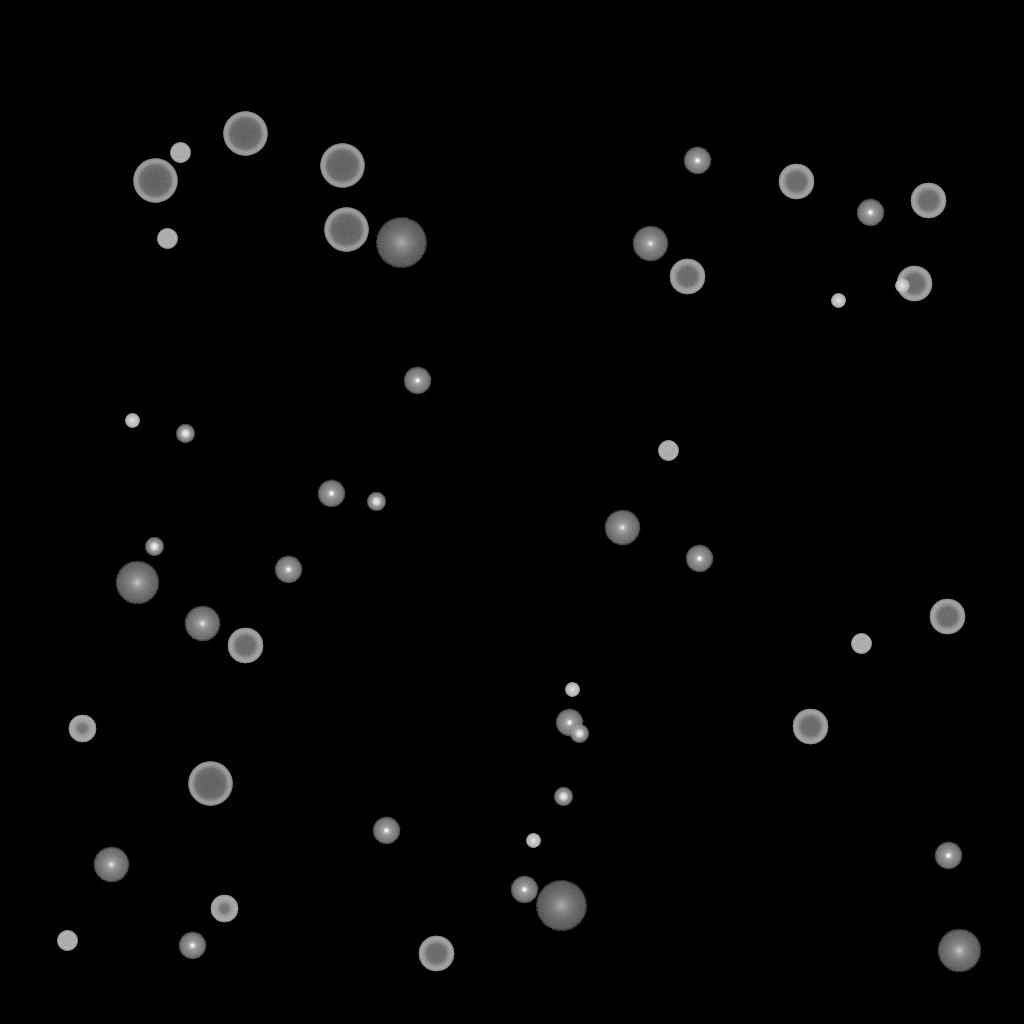depth:-10: (510, 876, 538, 904), (403, 367, 431, 395), (685, 545, 713, 573), (856, 199, 884, 227), (372, 817, 400, 845), (683, 147, 711, 175), (274, 556, 302, 584), (934, 842, 962, 870), (178, 932, 206, 960), (555, 709, 583, 737), (317, 480, 345, 508)
depth:-20: (367, 493, 385, 511), (570, 725, 588, 743), (145, 538, 163, 556), (554, 788, 572, 806), (176, 425, 194, 443)
depth:-30: (125, 414, 139, 428), (831, 294, 845, 308), (526, 834, 540, 848), (565, 683, 579, 697), (895, 279, 909, 293)
depth:-40: (57, 931, 77, 951), (658, 441, 678, 461), (170, 143, 190, 163), (851, 634, 871, 654), (157, 229, 177, 249)
depth:-50: (210, 895, 238, 923), (68, 715, 96, 743)
depth:-60: (778, 164, 814, 200), (669, 259, 705, 295), (418, 936, 454, 972), (910, 183, 946, 219), (792, 709, 828, 745), (227, 628, 263, 664), (896, 266, 932, 302), (929, 599, 965, 635)
depth:-70: (324, 208, 368, 252), (320, 144, 364, 188), (223, 112, 267, 156), (188, 762, 232, 806), (133, 159, 177, 203)
depth:0: (604, 510, 640, 546), (632, 226, 668, 262), (184, 606, 220, 642), (93, 847, 129, 883)
depth:10: (115, 561, 159, 605), (937, 929, 981, 973)
depth:20: (535, 881, 587, 931), (375, 218, 427, 268)
